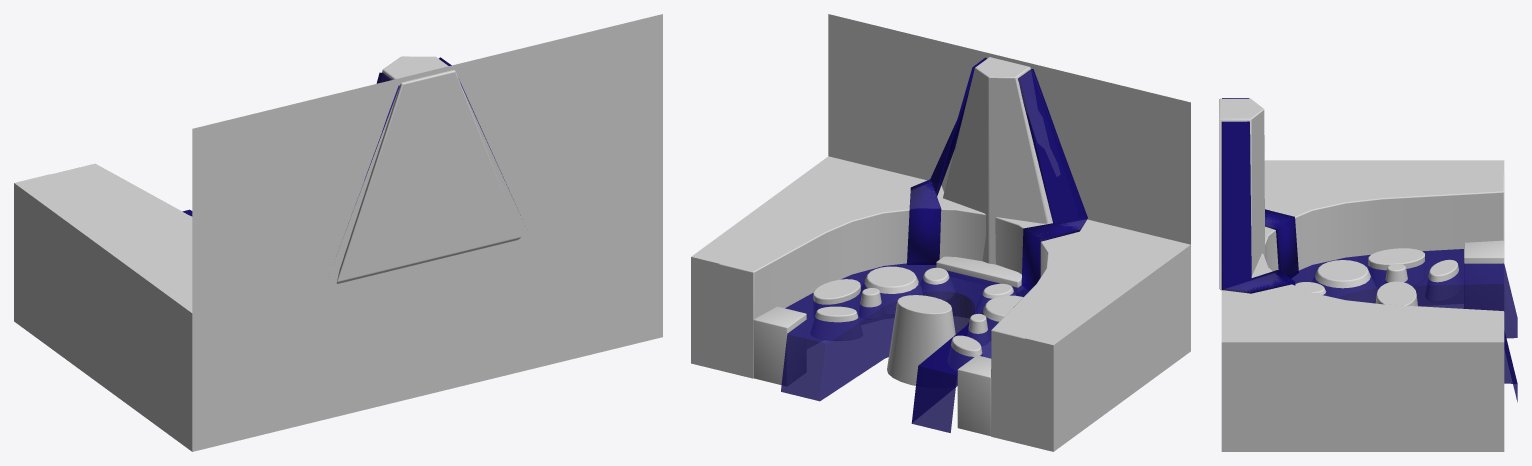
File: Environment 2.fbx
3 renders of one model, left to right at view 1: azimuth 30°, elevation 25°; view 2: azimuth 150°, elevation 25°; view 3: azimuth 270°, elevation 25°, orthographic. The views are drawn at different scales.
Visible parts, largest first — view 1: Ground.003, Wall_back, Mountain.003, Ground_cylinder; view 2: Wall_back, Ground.003, Ground_cylinder, Water, Mountain.003, Water_fall, Lower Platform, Island_center, Cylinder.019, Cylinder.021, Lower Platform.01, Cylinder.020 (+2 smaller); view 3: Ground.003, Ground_cylinder, Water_fall, Water, Mountain.003, Lower Platform, Cylinder.019, Cylinder.018, Cylinder.021, Island_center, Cylinder.025.
Boxes of the visible parts, box(x1,y1,x2,y2) form: Ground.003: box(14, 174, 662, 451); Wall_back: box(192, 14, 662, 313); Mountain.003: box(336, 56, 520, 283); Ground_cylinder: box(52, 163, 192, 245); Wall_back: box(828, 14, 1190, 244); Ground.003: box(691, 156, 1190, 451); Ground_cylinder: box(719, 192, 1087, 444); Water: box(781, 263, 1028, 432); Mountain.003: box(941, 57, 1059, 264); Water_fall: box(907, 57, 1087, 290); Lower Platform: box(753, 306, 991, 436); Island_center: box(887, 295, 955, 385); Cylinder.019: box(861, 266, 1023, 340); Cylinder.021: box(811, 306, 982, 370); Lower Platform.01: box(936, 256, 1023, 292); Cylinder.020: box(920, 267, 1015, 313); Ground.003: box(1221, 160, 1504, 451); Ground_cylinder: box(1243, 174, 1504, 327); Water_fall: box(1221, 98, 1298, 293); Water: box(1291, 249, 1517, 402); Mountain.003: box(1219, 98, 1264, 290); Lower Platform: box(1464, 240, 1504, 310); Cylinder.019: box(1312, 260, 1376, 302); Cylinder.018: box(1368, 248, 1424, 286); Cylinder.021: box(1425, 259, 1461, 301); Island_center: box(1375, 281, 1417, 306); Cylinder.025: box(1385, 264, 1407, 282).
Size of the model in its own units: 6400 by 4300 by 4438.
